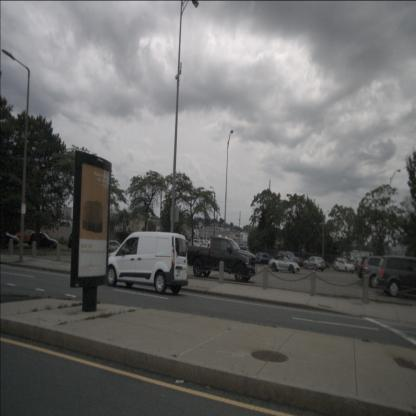vehicle-car: (104, 231, 189, 294), (374, 254, 415, 299), (361, 255, 409, 289), (356, 253, 404, 286), (268, 256, 300, 274), (27, 232, 58, 250), (0, 227, 21, 250), (105, 240, 130, 258), (276, 251, 300, 268), (304, 256, 326, 272), (15, 230, 38, 244), (254, 252, 274, 266), (335, 259, 355, 273), (190, 239, 204, 249), (199, 240, 212, 250), (236, 242, 246, 252)
vehicle-truck: (188, 236, 257, 282)
